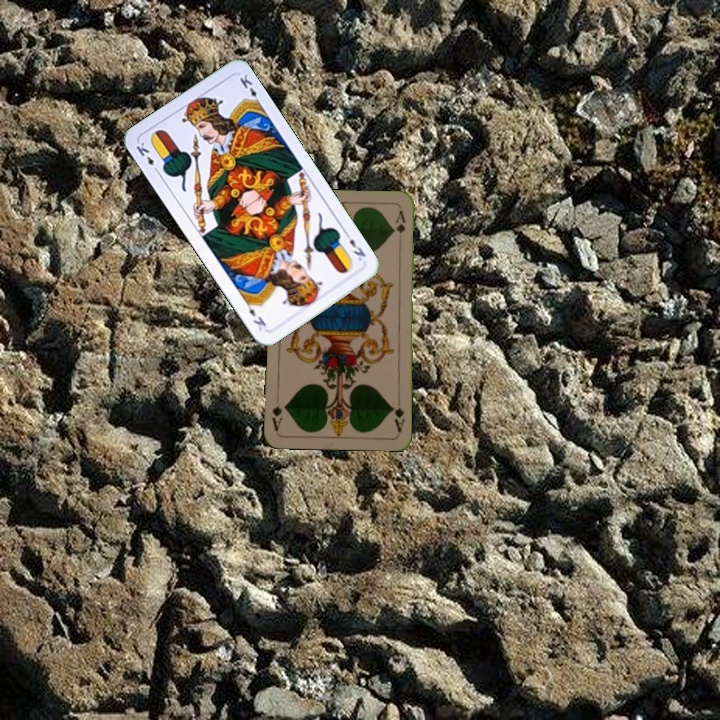EK: (132, 138, 162, 176), (341, 228, 369, 263)
GA: (388, 394, 407, 435)
